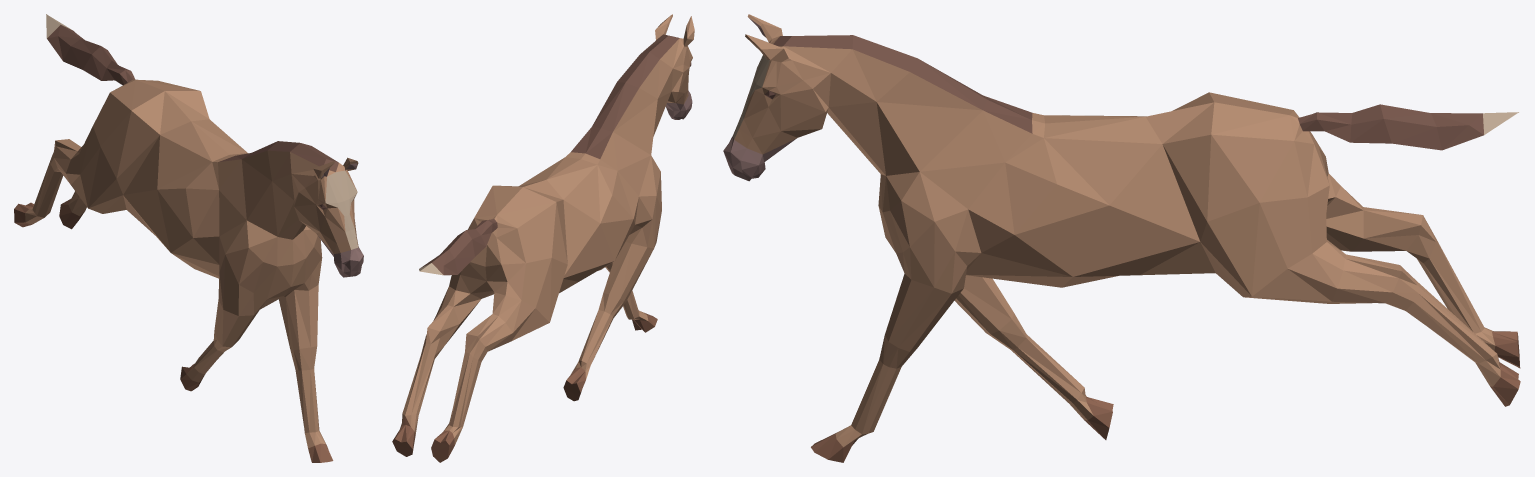
File: Horse.glb
3 views of the same model, side by side, from view 1: azimuth 30°, elevation 25°; view 2: azimuth 150°, elevation 25°; view 3: azimuth 270°, elevation 25° (orthographic). The views are drawn at different scales.
Visible parts, largest first — view 1: mesh_0; view 2: mesh_0; view 3: mesh_0.
Boxes of the visible parts, x1,y1,x2,y2 form: mesh_0: (14,14,363,462); mesh_0: (392,14,694,462); mesh_0: (723,14,1520,462).
Bounding box in the file's own units: 63.6 × 180 × 301.
